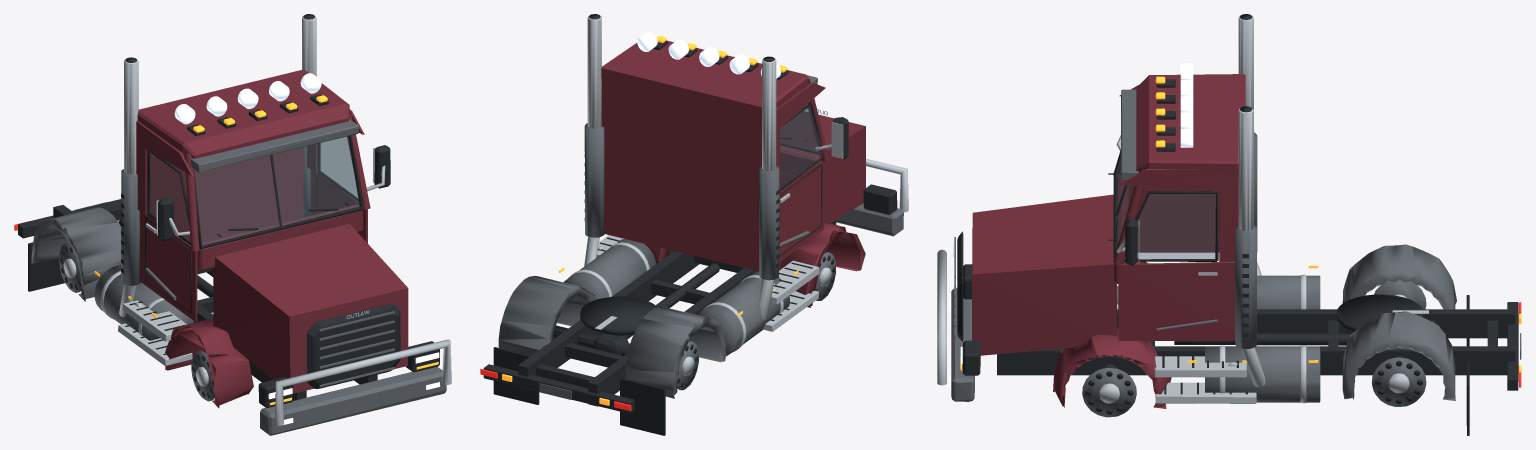
Rendered from Outlaw_LOD2.fbx.
The picture shows the model from 3 angles, left to right: view 1: azimuth 30°, elevation 25°; view 2: azimuth 150°, elevation 25°; view 3: azimuth 270°, elevation 25°; orthographic projection. The views are drawn at different scales.
Visible parts, largest first — view 1: CabExterior__TT_Paint_Primary.001, Chassis__TT_Paint_Primary.001, Chassis__TT_MetalTrim.001, CabExterior__TT_Glass.001, Chassis__TT_Chassis.001, Chassis__TT_Chrome.001, CabExterior__TT_Rubber.001, CabExterior__TT_MetalTrim.001, CabExterior__TT_Chrome.001, CabExterior__TT_Chassis.001, LampHighBeam__TT_Headlamp.001, Chassis__TT_Rubber.001 (+2 smaller); view 2: CabExterior__TT_Paint_Primary.001, Chassis__TT_MetalTrim.001, Chassis__TT_Chassis.001, Chassis__TT_Paint_Primary.001, Chassis__TT_Chrome.001, Chassis__TT_Rubber.001, CabExterior__TT_Glass.001, CabExterior__TT_Chrome.001, LampHighBeam__TT_Headlamp.001, CabExterior__TT_Rubber.001, CabExterior__TT_Chassis.001, Wheel_RR__TT_MetalTrim.001 (+2 smaller); view 3: CabExterior__TT_Paint_Primary.001, Chassis__TT_Paint_Primary.001, Chassis__TT_MetalTrim.001, Chassis__TT_Chassis.001, Chassis__TT_Chrome.001, CabExterior__TT_Glass.001, CabExterior__TT_Chrome.001, CabExterior__TT_Rubber.001, Wheel_FL__TT_MetalTrim.001, Wheel_RL__TT_MetalTrim.001, CabExterior__TT_MetalTrim.001, CabExterior__TT_Chassis.001 (+2 smaller).
Boxes of the visible parts, bbox=[...] form: CabExterior__TT_Paint_Primary.001: bbox=[136, 69, 370, 321]; Chassis__TT_Paint_Primary.001: bbox=[165, 224, 408, 408]; Chassis__TT_MetalTrim.001: bbox=[31, 146, 446, 435]; CabExterior__TT_Glass.001: bbox=[149, 136, 359, 245]; Chassis__TT_Chassis.001: bbox=[18, 14, 439, 408]; Chassis__TT_Chrome.001: bbox=[100, 15, 451, 425]; CabExterior__TT_Rubber.001: bbox=[125, 135, 364, 354]; CabExterior__TT_MetalTrim.001: bbox=[190, 119, 358, 172]; CabExterior__TT_Chrome.001: bbox=[118, 165, 385, 365]; CabExterior__TT_Chassis.001: bbox=[158, 94, 390, 241]; LampHighBeam__TT_Headlamp.001: bbox=[174, 73, 321, 124]; Chassis__TT_Rubber.001: bbox=[28, 202, 349, 291]; CabExterior__TT_Paint_Primary.001: bbox=[601, 40, 828, 271]; Chassis__TT_MetalTrim.001: bbox=[498, 123, 903, 399]; Chassis__TT_Chassis.001: bbox=[483, 14, 897, 413]; Chassis__TT_Paint_Primary.001: bbox=[644, 111, 865, 307]; Chassis__TT_Chrome.001: bbox=[569, 16, 908, 351]; Chassis__TT_Rubber.001: bbox=[493, 139, 807, 435]; CabExterior__TT_Glass.001: bbox=[780, 106, 821, 186]; CabExterior__TT_Chrome.001: bbox=[596, 144, 831, 331]; LampHighBeam__TT_Headlamp.001: bbox=[637, 32, 781, 78]; CabExterior__TT_Rubber.001: bbox=[597, 102, 823, 321]; CabExterior__TT_Chassis.001: bbox=[653, 40, 848, 159]; Wheel_RR__TT_MetalTrim.001: bbox=[677, 341, 698, 390]; CabExterior__TT_Paint_Primary.001: bbox=[1113, 74, 1245, 340]; Chassis__TT_Paint_Primary.001: bbox=[972, 194, 1171, 408]; Chassis__TT_MetalTrim.001: bbox=[951, 132, 1521, 402]; Chassis__TT_Chassis.001: bbox=[957, 14, 1518, 390]; Chassis__TT_Chrome.001: bbox=[937, 16, 1428, 403]; CabExterior__TT_Glass.001: bbox=[1117, 163, 1215, 258]; CabExterior__TT_Chrome.001: bbox=[1116, 135, 1256, 403]; CabExterior__TT_Rubber.001: bbox=[1113, 152, 1247, 394]; Wheel_FL__TT_MetalTrim.001: bbox=[1082, 367, 1136, 417]; Wheel_RL__TT_MetalTrim.001: bbox=[1371, 357, 1426, 406]; CabExterior__TT_MetalTrim.001: bbox=[1121, 89, 1138, 180]; CabExterior__TT_Chassis.001: bbox=[1115, 79, 1175, 265].
Size of the model in its own units: 311 by 398 by 642.
